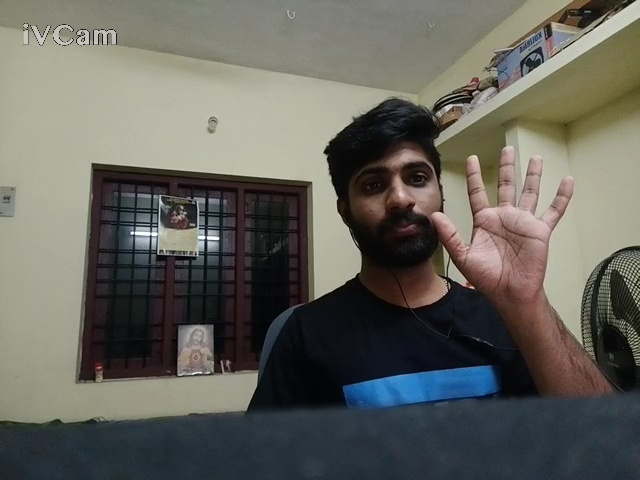Hello: (417, 139, 588, 308)
